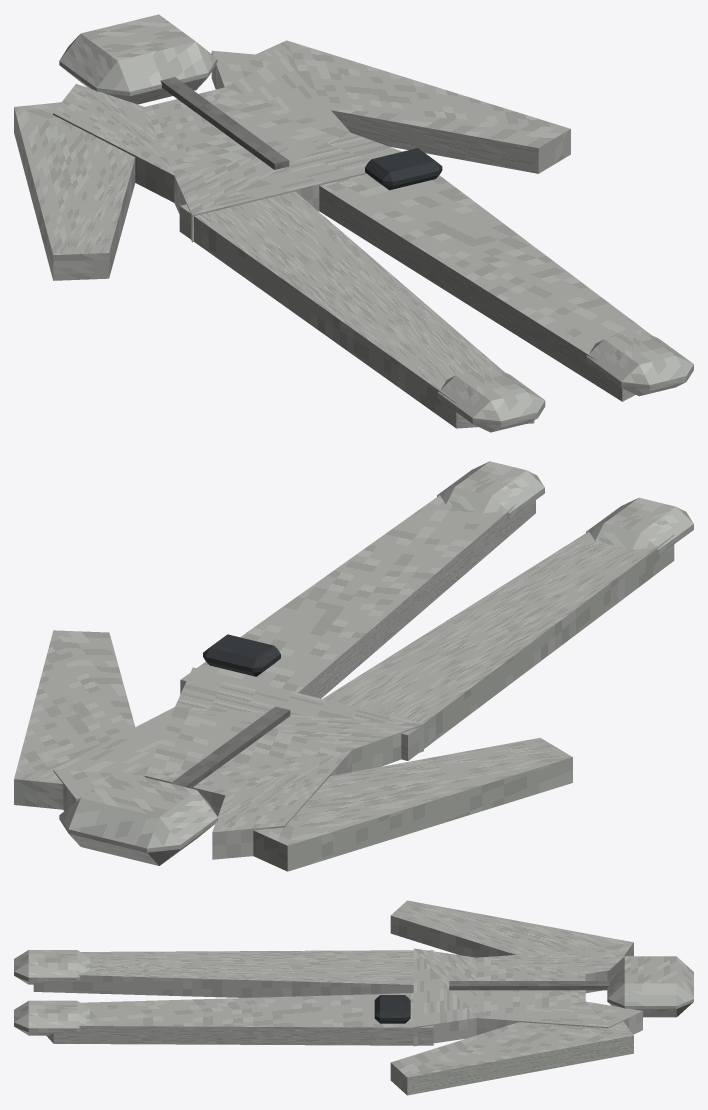
The model's file is thermal_outfit.glb.
3 renders of one model, top to bottom at view 1: azimuth 30°, elevation 25°; view 2: azimuth 150°, elevation 25°; view 3: azimuth 270°, elevation 25°, orthographic. The views are drawn at different scales.
Parts seen in each view (by area): view 1: block_trouser leg (×2), block_sleeve (×2), block_tailored torso, block_enclosed foot (×2), block_thermal hood, block_center seam, block_power pocket; view 2: block_trouser leg (×2), block_sleeve (×2), block_tailored torso, block_thermal hood, block_enclosed foot (×2), block_center seam, block_power pocket; view 3: block_trouser leg (×2), block_sleeve (×2), block_tailored torso, block_enclosed foot (×2), block_thermal hood, block_center seam, block_power pocket.
Boxes of the visible parts, x1=… form: block_trouser leg (×2): x1=179, y1=150, x2=650, y2=428; block_sleeve (×2): x1=14, y1=40, x2=570, y2=280; block_tailored torso: x1=53, y1=50, x2=401, y2=242; block_enclosed foot (×2): x1=438, y1=330, x2=693, y2=432; block_thermal hood: x1=59, y1=14, x2=217, y2=104; block_center seam: x1=160, y1=77, x2=289, y2=169; block_power pocket: x1=365, y1=148, x2=442, y2=190; block_trouser leg (×2): x1=180, y1=495, x2=674, y2=760; block_sleeve (×2): x1=14, y1=630, x2=572, y2=871; block_tailored torso: x1=53, y1=667, x2=423, y2=859; block_thermal hood: x1=59, y1=770, x2=217, y2=865; block_enclosed foot (×2): x1=437, y1=461, x2=693, y2=555; block_center seam: x1=170, y1=706, x2=290, y2=788; block_power pocket: x1=203, y1=634, x2=280, y2=676; block_trouser leg (×2): x1=33, y1=950, x2=433, y2=1045; block_sleeve (×2): x1=390, y1=900, x2=633, y2=1095; block_tailored torso: x1=413, y1=948, x2=642, y2=1046; block_enclosed foot (×2): x1=14, y1=950, x2=89, y2=1035; block_thermal hood: x1=607, y1=956, x2=693, y2=1017; block_center seam: x1=449, y1=981, x2=609, y2=990; block_power pocket: x1=374, y1=995, x2=410, y2=1023.
Bounding box in the file's own units: 0.5493 × 0.0537 × 0.8915.
1 material, 1 textured.
